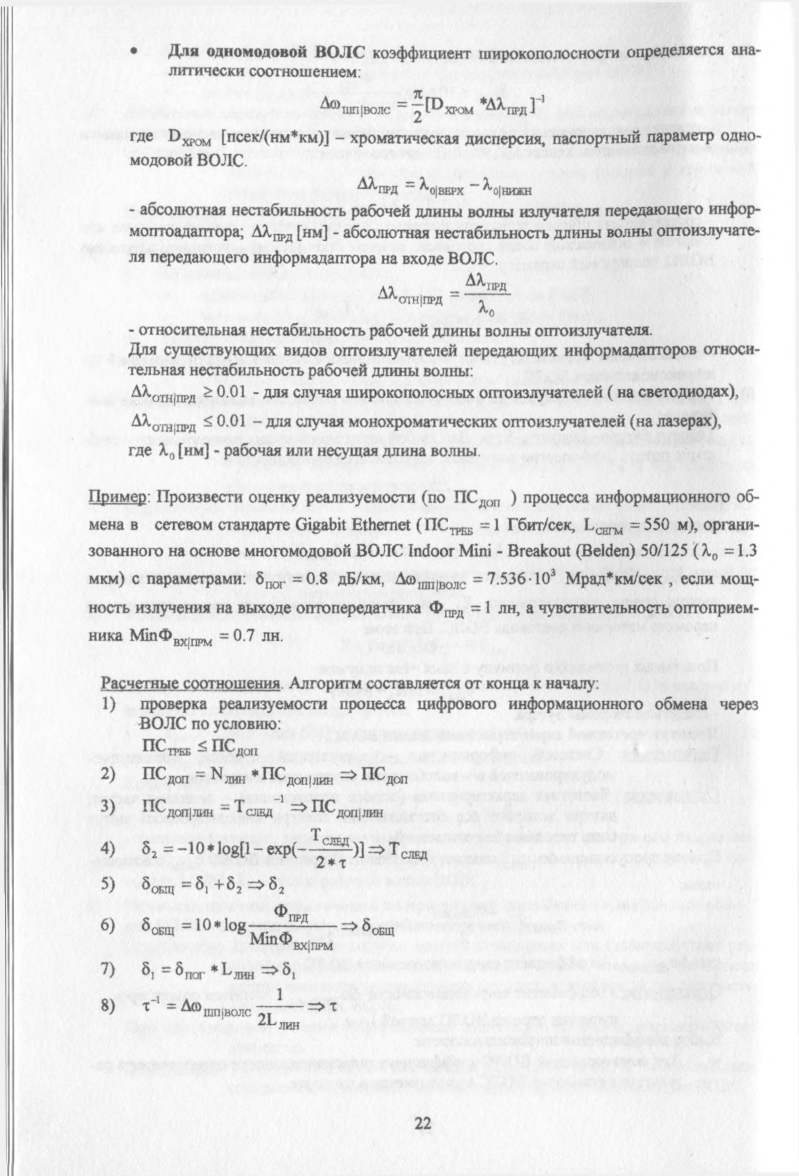L.лин: (219, 956, 257, 983), (265, 1012, 299, 1032)
N.лин: (208, 759, 247, 786)
T.след: (310, 821, 350, 847), (236, 800, 275, 821)
group: (372, 266, 516, 322), (348, 166, 540, 203)
Δλ.отн.прд: (375, 281, 443, 306)
Δλ.прд: (354, 172, 401, 196), (488, 91, 525, 119), (464, 271, 508, 290)
Δω.шп.волс: (182, 995, 252, 1022), (319, 93, 392, 117)
δ.1: (191, 868, 209, 897), (140, 959, 156, 983)
δ.2: (138, 838, 159, 861), (226, 875, 242, 898)
δ.общ: (140, 913, 179, 941), (141, 875, 175, 899)
δ.пог: (174, 957, 206, 981)
λ.0: (471, 296, 502, 318)
λ.0.верх: (417, 173, 464, 198)
λ.0.нижн: (482, 174, 536, 199)
τ: (139, 998, 149, 1016), (336, 855, 347, 869)
ПС.доп: (137, 763, 191, 788)
ПС.доп.лин: (260, 758, 337, 790), (141, 797, 215, 823)
Ф.вх.прм: (281, 931, 330, 952)
Ф.прд: (272, 900, 311, 922)
